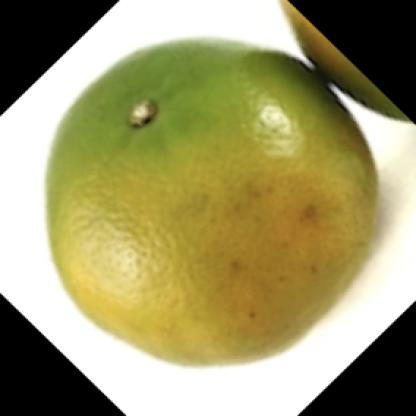fresh: (44, 40, 380, 370)
